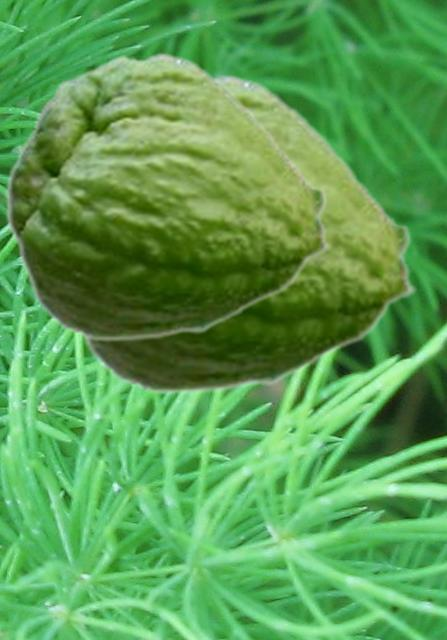sayote: (77, 73, 418, 395), (5, 51, 333, 342)
